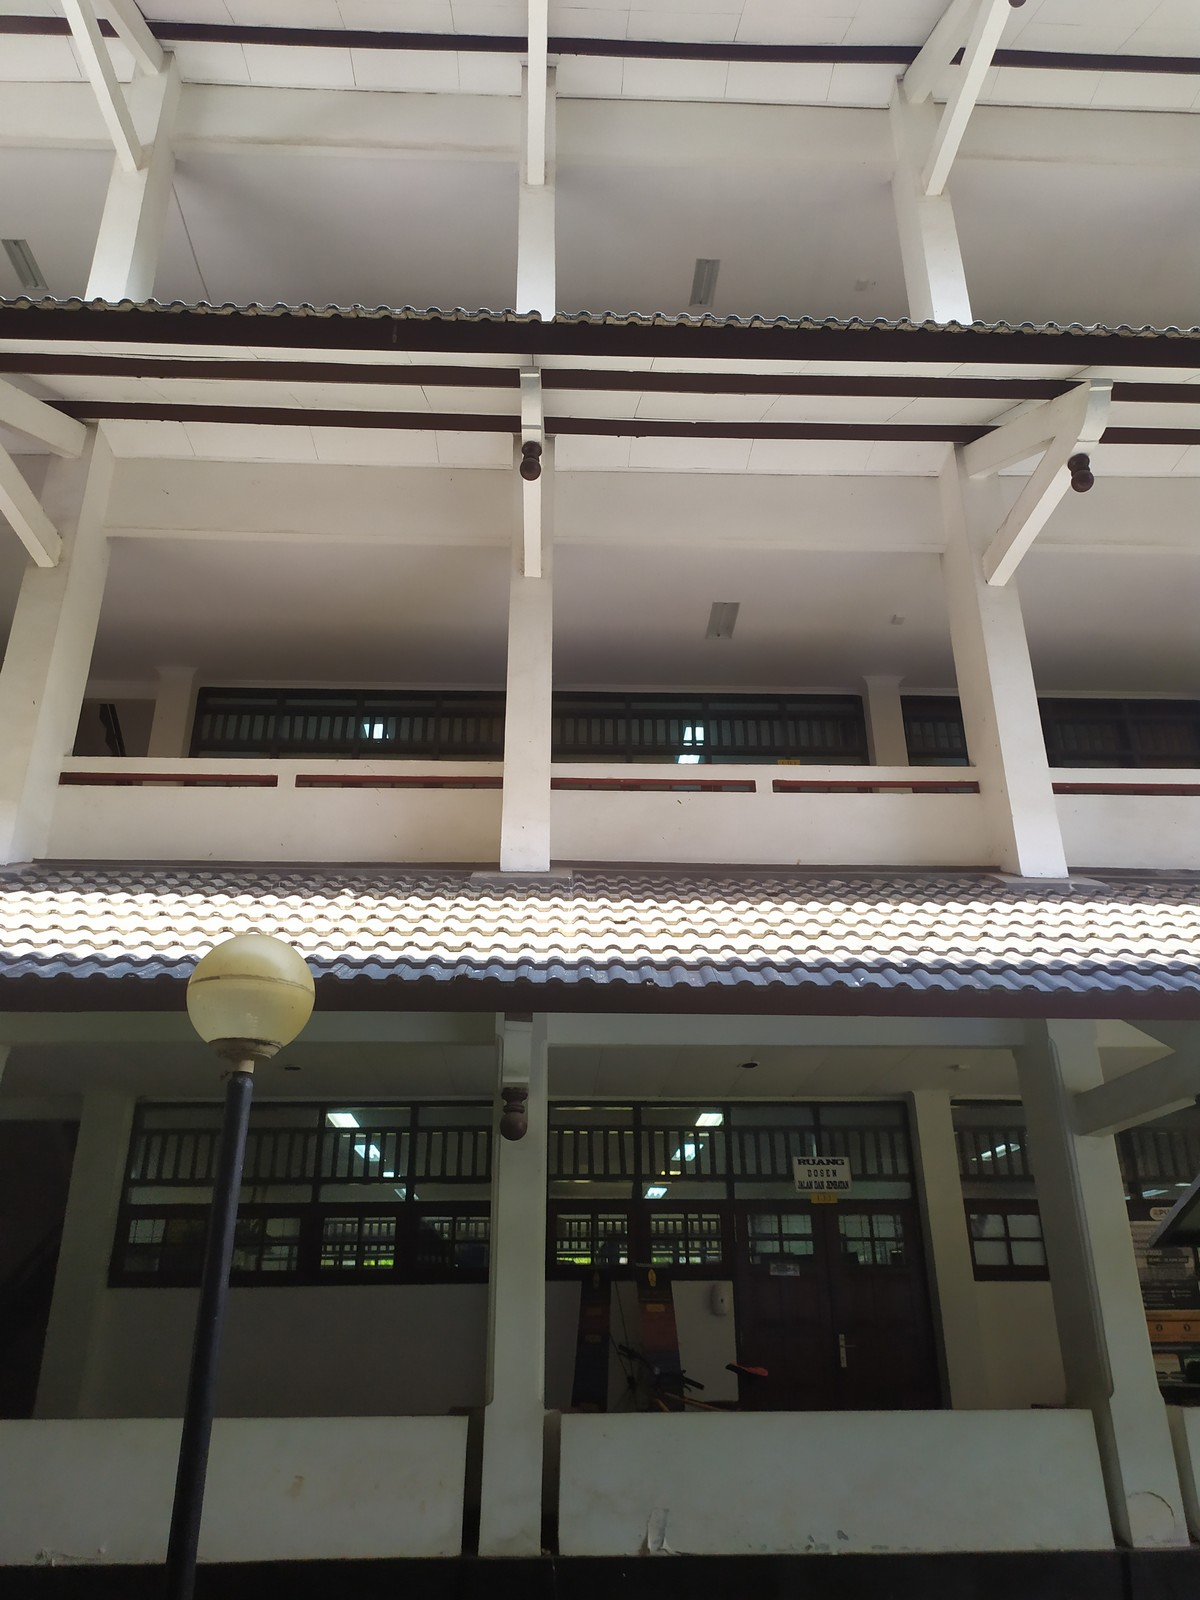concrete beam: (68, 31, 158, 174), (1058, 1057, 1186, 1146), (979, 464, 1068, 593), (916, 42, 979, 198)
concrete column: (1008, 1029, 1192, 1551), (925, 470, 1076, 891), (3, 451, 118, 877), (79, 76, 184, 305), (879, 96, 979, 325)
